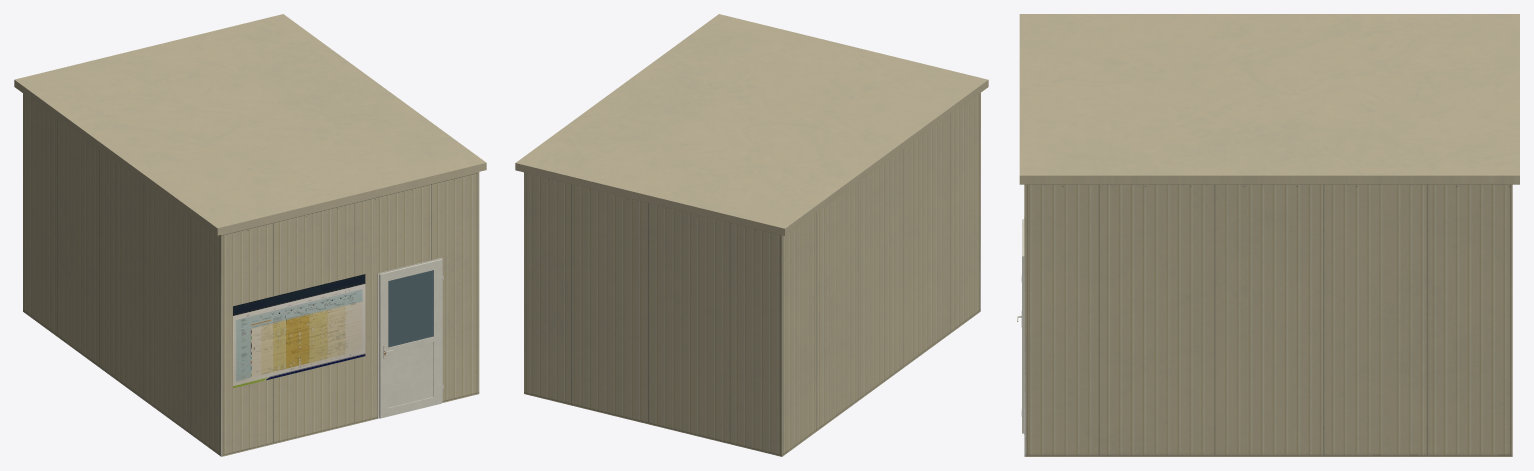
File: PAP.FBX
The picture shows the model from 3 angles, left to right: view 1: azimuth 30°, elevation 25°; view 2: azimuth 150°, elevation 25°; view 3: azimuth 270°, elevation 25°; orthographic projection. The views are drawn at different scales.
Visible parts, largest first — view 1: YF_Modes_pap; view 2: YF_Modes_pap; view 3: YF_Modes_pap.
Boxes of the visible parts, x1=… form: YF_Modes_pap: x1=14, y1=14, x2=486, y2=456; YF_Modes_pap: x1=515, y1=14, x2=988, y2=456; YF_Modes_pap: x1=1017, y1=14, x2=1519, y2=456.
Bounding box in the file's own units: 313 × 257 × 412.
Materials: 1 (1 with a texture image).
